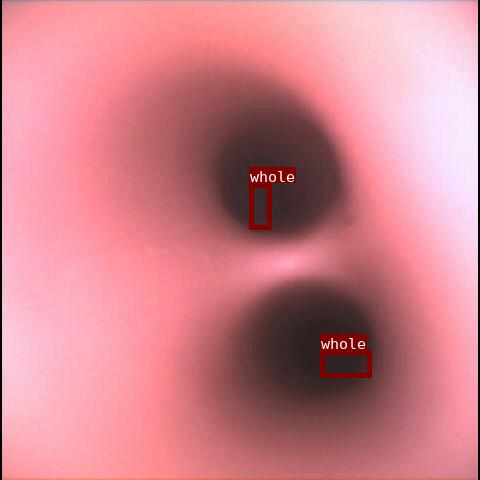whole: (320, 350, 371, 377), (249, 183, 271, 229)
